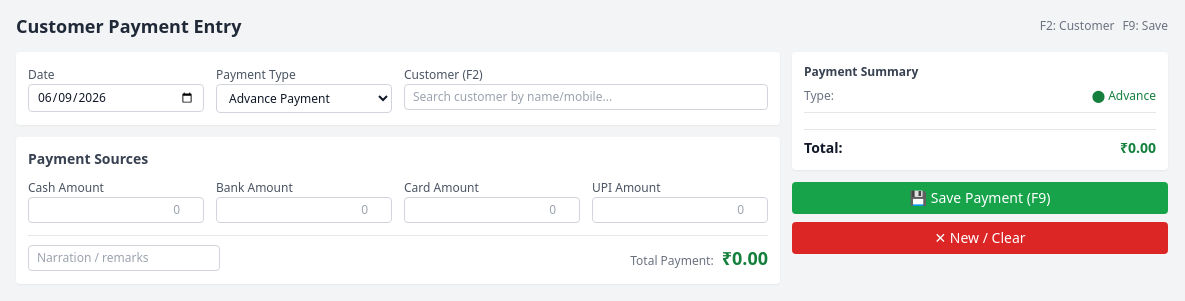
Test: CustomerPaymentEntry › shows customer search dropdown when typing
Type "Raj" into the field with placeholder "Search customer by name/mobile...".
click(586, 97); type("Raj")  # box [404,84,768,110]
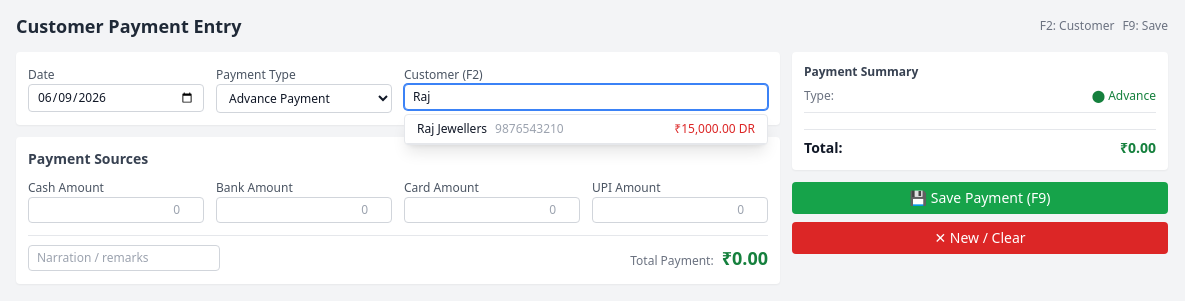
Result: the text "Raj Jewellers" is shown at [417,120,487,137]
